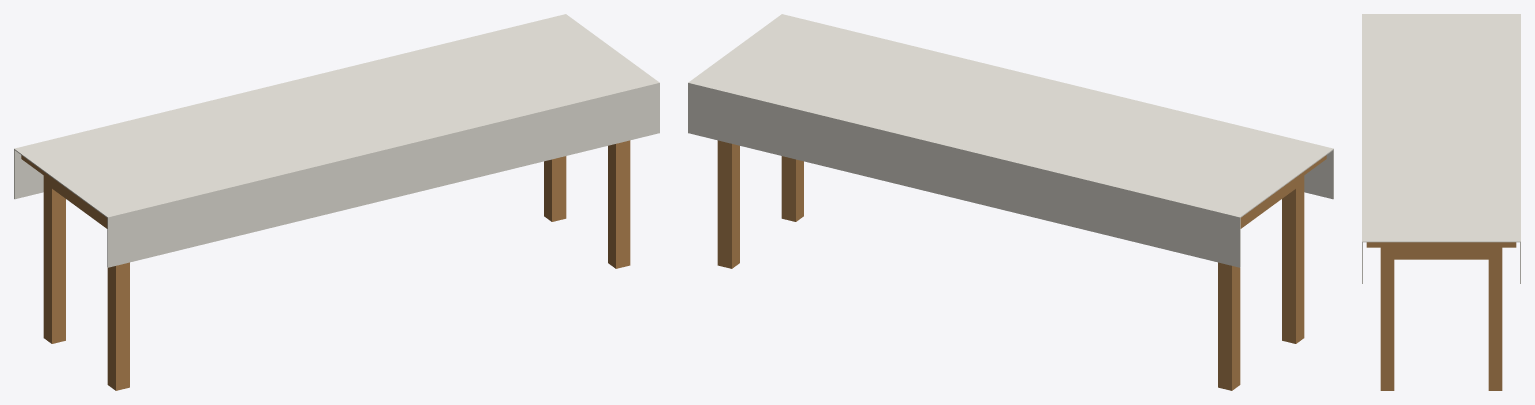
3 views of the same model, side by side, from view 1: azimuth 30°, elevation 25°; view 2: azimuth 150°, elevation 25°; view 3: azimuth 270°, elevation 25° (orthographic). The views are drawn at different scales.
Visible parts, largest first — view 1: parametric-variant-table-2nd-pub-50b68a203049ae645344; view 2: parametric-variant-table-2nd-pub-50b68a203049ae645344; view 3: parametric-variant-table-2nd-pub-50b68a203049ae645344.
Boxes of the visible parts, x1,y1,x2,y2 form: parametric-variant-table-2nd-pub-50b68a203049ae645344: (14, 14, 659, 390); parametric-variant-table-2nd-pub-50b68a203049ae645344: (688, 14, 1333, 390); parametric-variant-table-2nd-pub-50b68a203049ae645344: (1362, 14, 1520, 390).
Bounding box in the file's own units: 2.34 × 0.754 × 0.69.
